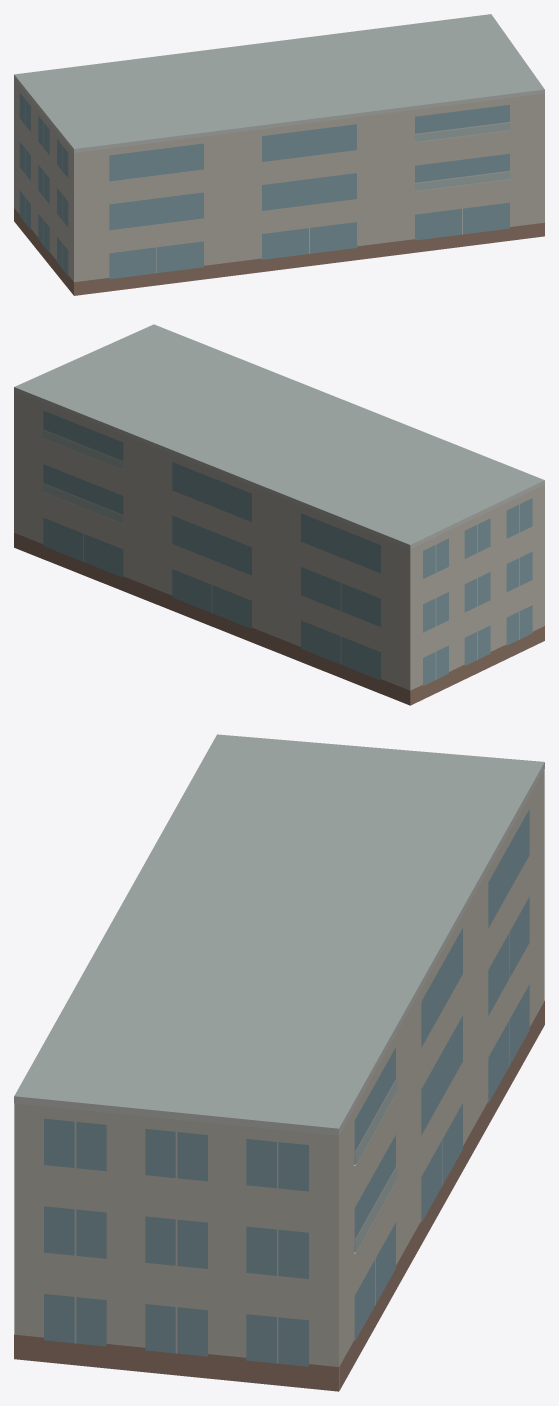
The model's file is survey-upis-32870198.glb.
3 views of the same model, one above another, from view 1: azimuth 30°, elevation 25°; view 2: azimuth 150°, elevation 25°; view 3: azimuth 270°, elevation 25° (orthographic). The views are drawn at different scales.
Visible parts, largest first — view 1: survey-upis-32870198.tmp; view 2: survey-upis-32870198.tmp; view 3: survey-upis-32870198.tmp.
Boxes of the visible parts, <box> form: survey-upis-32870198.tmp: <box>14,14,544,295</box>; survey-upis-32870198.tmp: <box>14,324,544,705</box>; survey-upis-32870198.tmp: <box>14,734,544,1391</box>.
Size of the model in its own units: 29.44 by 9.15 by 16.75.
